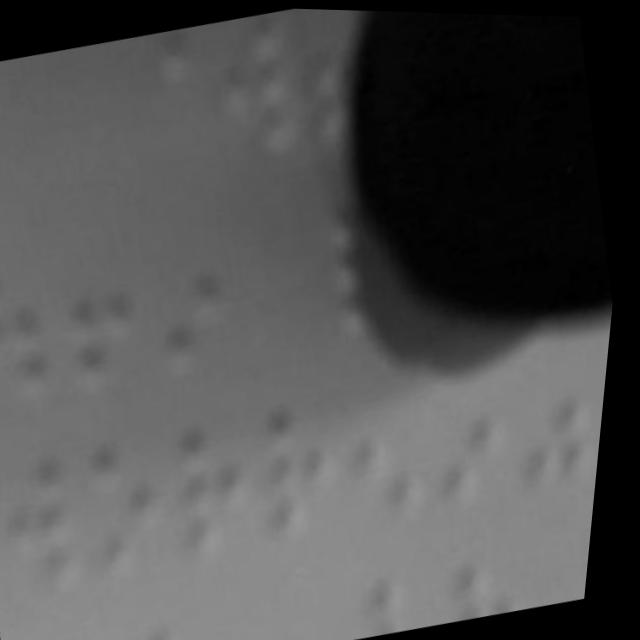braiile: (142, 194, 274, 377), (197, 5, 329, 187), (46, 213, 172, 398), (253, 374, 382, 548), (167, 390, 293, 564), (429, 340, 549, 517), (80, 417, 207, 584), (0, 432, 117, 607), (343, 364, 460, 530), (510, 325, 616, 501), (0, 231, 84, 418)
